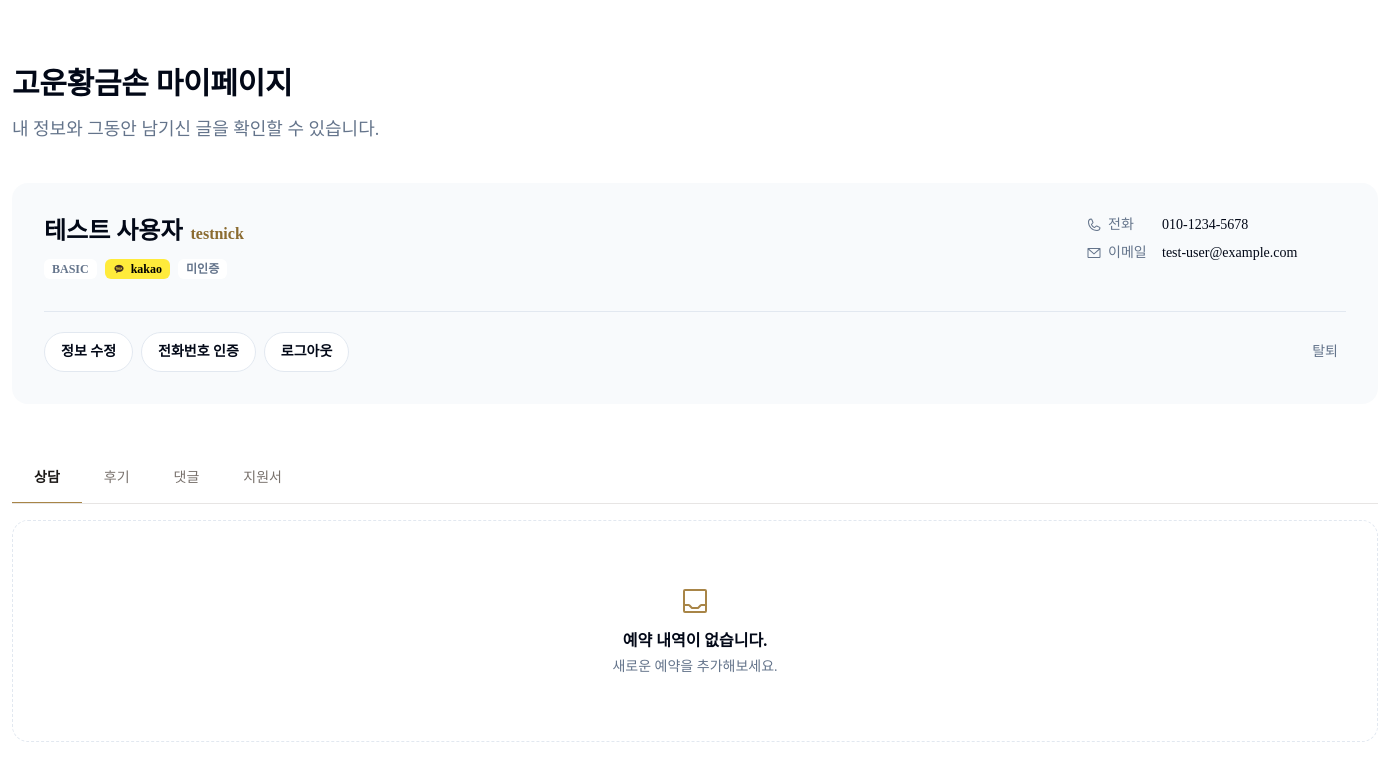
Test: Mypage 컴포넌트 테스트 › 작성한 후기 및 상담 내역이 없을 때 빈 상태 메시지가 올바르게 표시되는지 테스트
Check: the heading "예약 내역이 없습니다." is shown, box [623, 629, 767, 653]
Check: the text "새로운 예약을 추가해보세요." is shown, box [612, 657, 778, 677]
Click the tab "후기". click: (117, 478)
box: [82, 452, 152, 504]
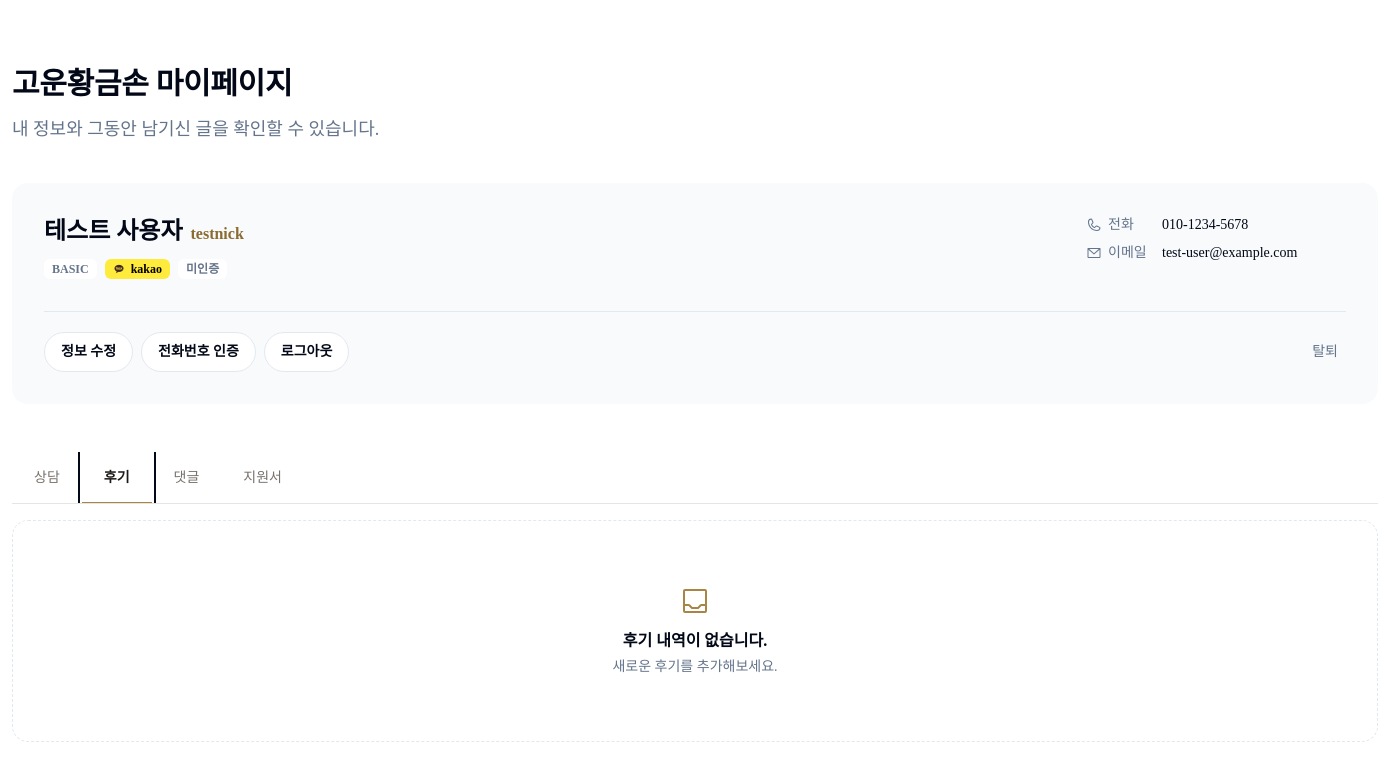
Check: the heading "후기 내역이 없습니다." is shown, box [623, 629, 767, 653]
Check: the text "새로운 후기를 추가해보세요." is shown, box [612, 657, 778, 677]
Click the tab "댓글". click: (186, 478)
box: [152, 452, 221, 504]
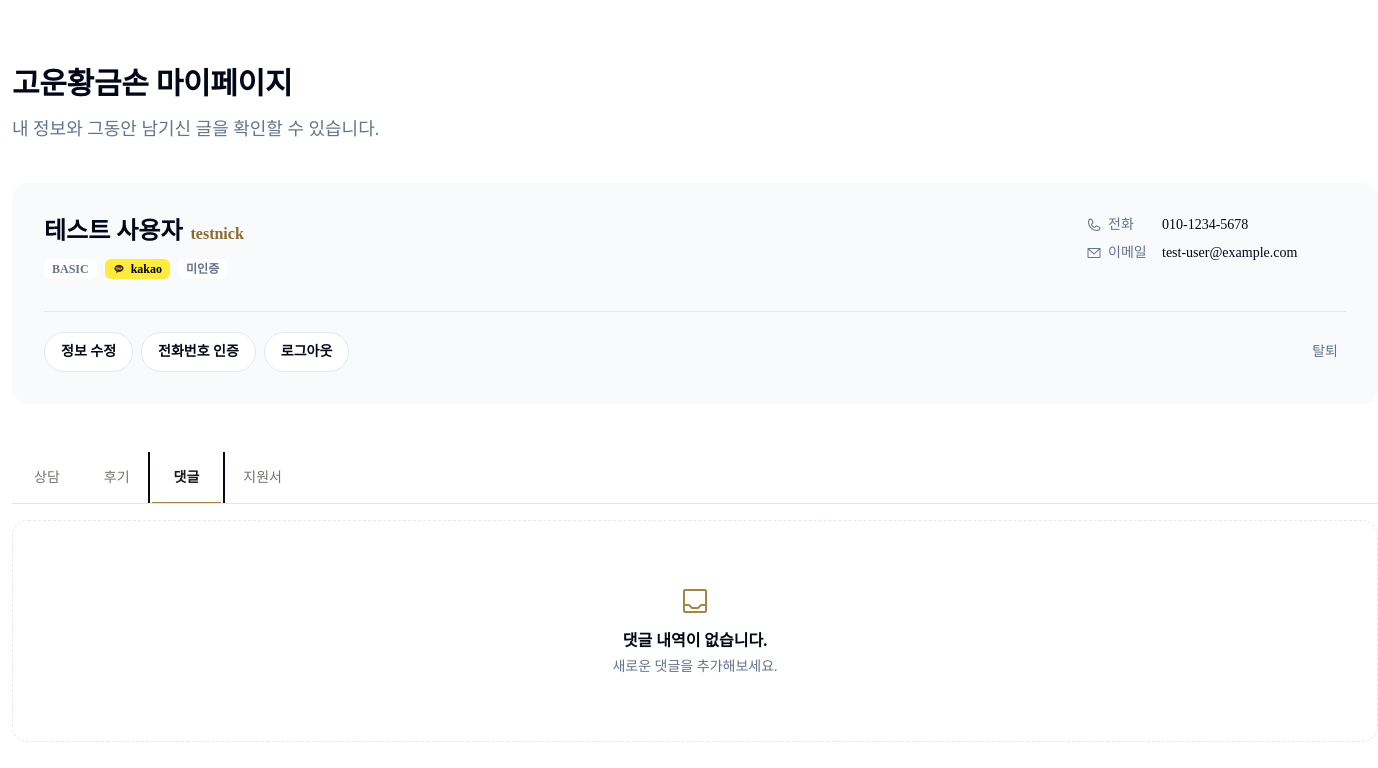
Check: the heading "댓글 내역이 없습니다." is shown, box [623, 629, 767, 653]
Check: the text "새로운 댓글을 추가해보세요." is shown, box [612, 657, 778, 677]
Click the tab "지원서". click: (263, 478)
box: [221, 452, 304, 504]
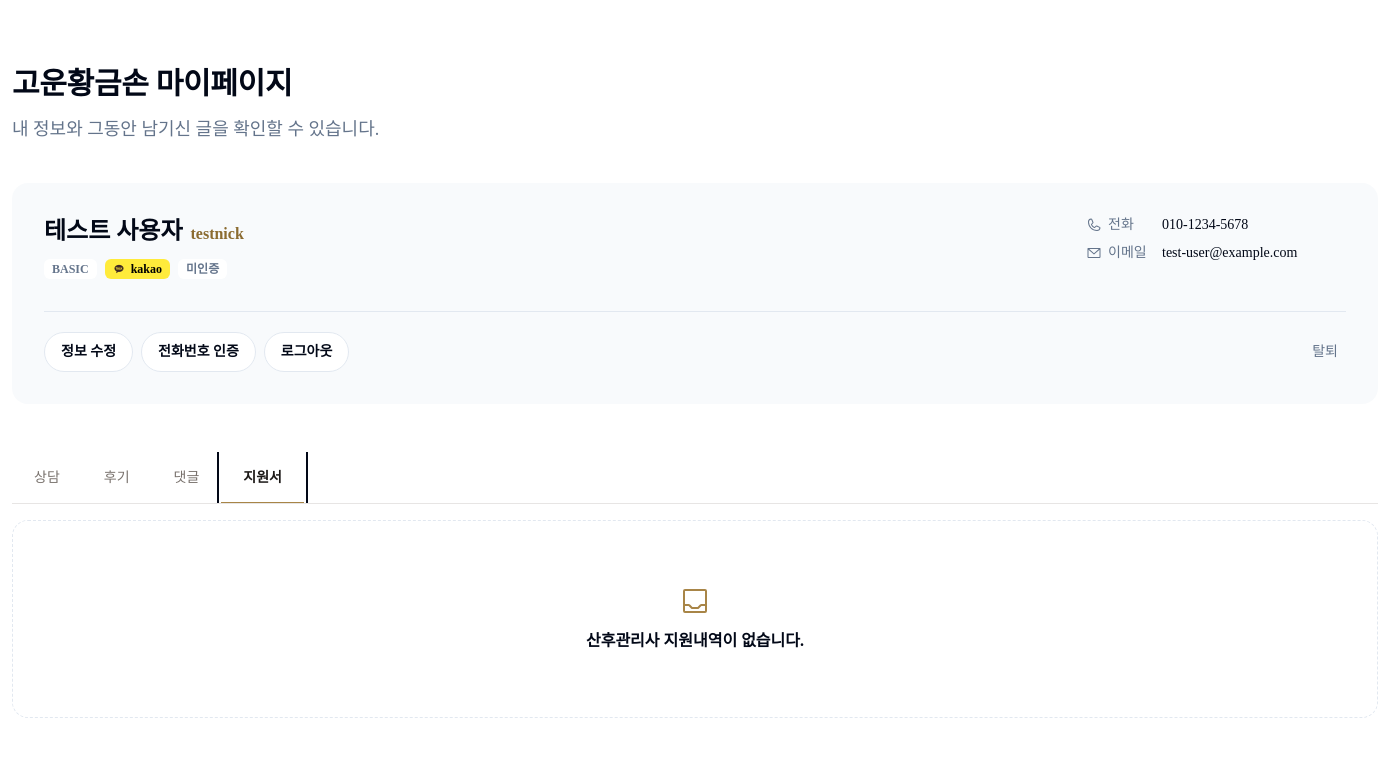
Check: the heading "산후관리사 지원내역이 없습니다." is shown, box [586, 629, 804, 653]
